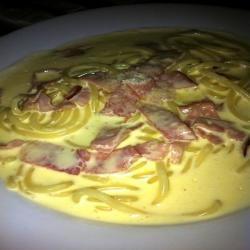carbonara: (2, 26, 250, 225)
